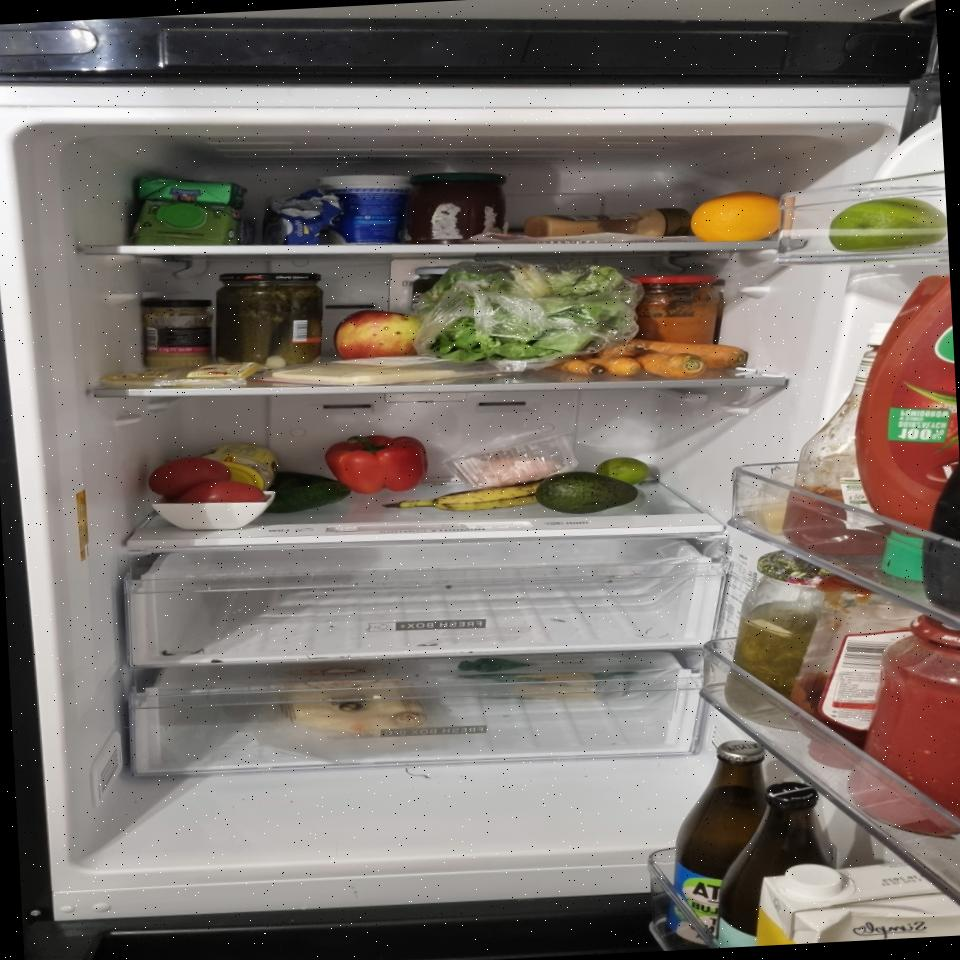Aguacate: (534, 468, 640, 516)
Carne pollo: (438, 431, 581, 492)
Leche: (752, 855, 960, 946)
Lechuga/Endivia: (414, 253, 646, 366)
Mantequilla: (264, 188, 345, 248), (136, 171, 250, 213)
Manzana: (332, 306, 424, 361)
Pepino: (262, 468, 353, 514)
Plátano: (380, 480, 545, 516)
Queso: (285, 676, 427, 738), (271, 358, 457, 388), (98, 360, 264, 392), (512, 669, 598, 702)
Tomate: (147, 454, 232, 498), (178, 478, 268, 507)
Yogur: (317, 172, 417, 248)
Zanahoria: (546, 332, 748, 386)
